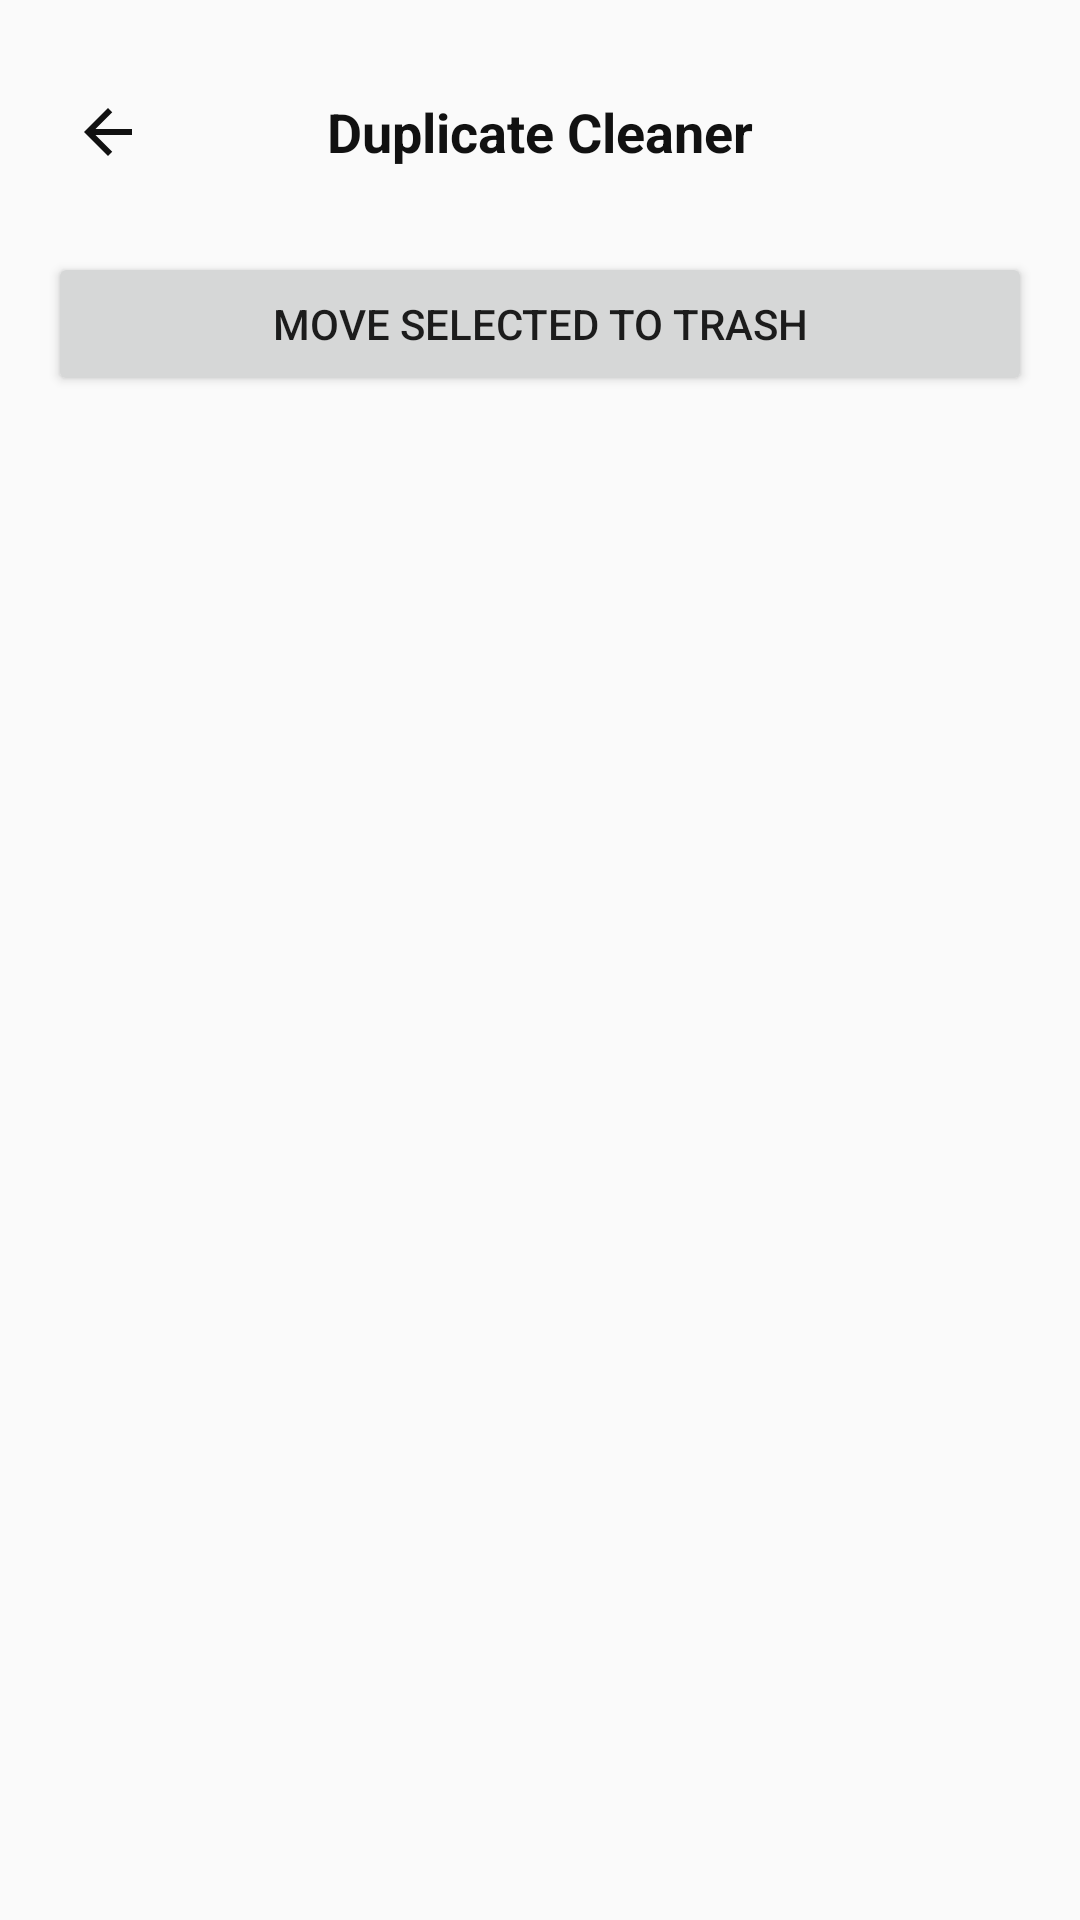

Named icons in this screenshot (1080x1920) and their bounding boxes, rect(x1, y1, x2, y2):
back: rect(84, 108, 132, 156)
